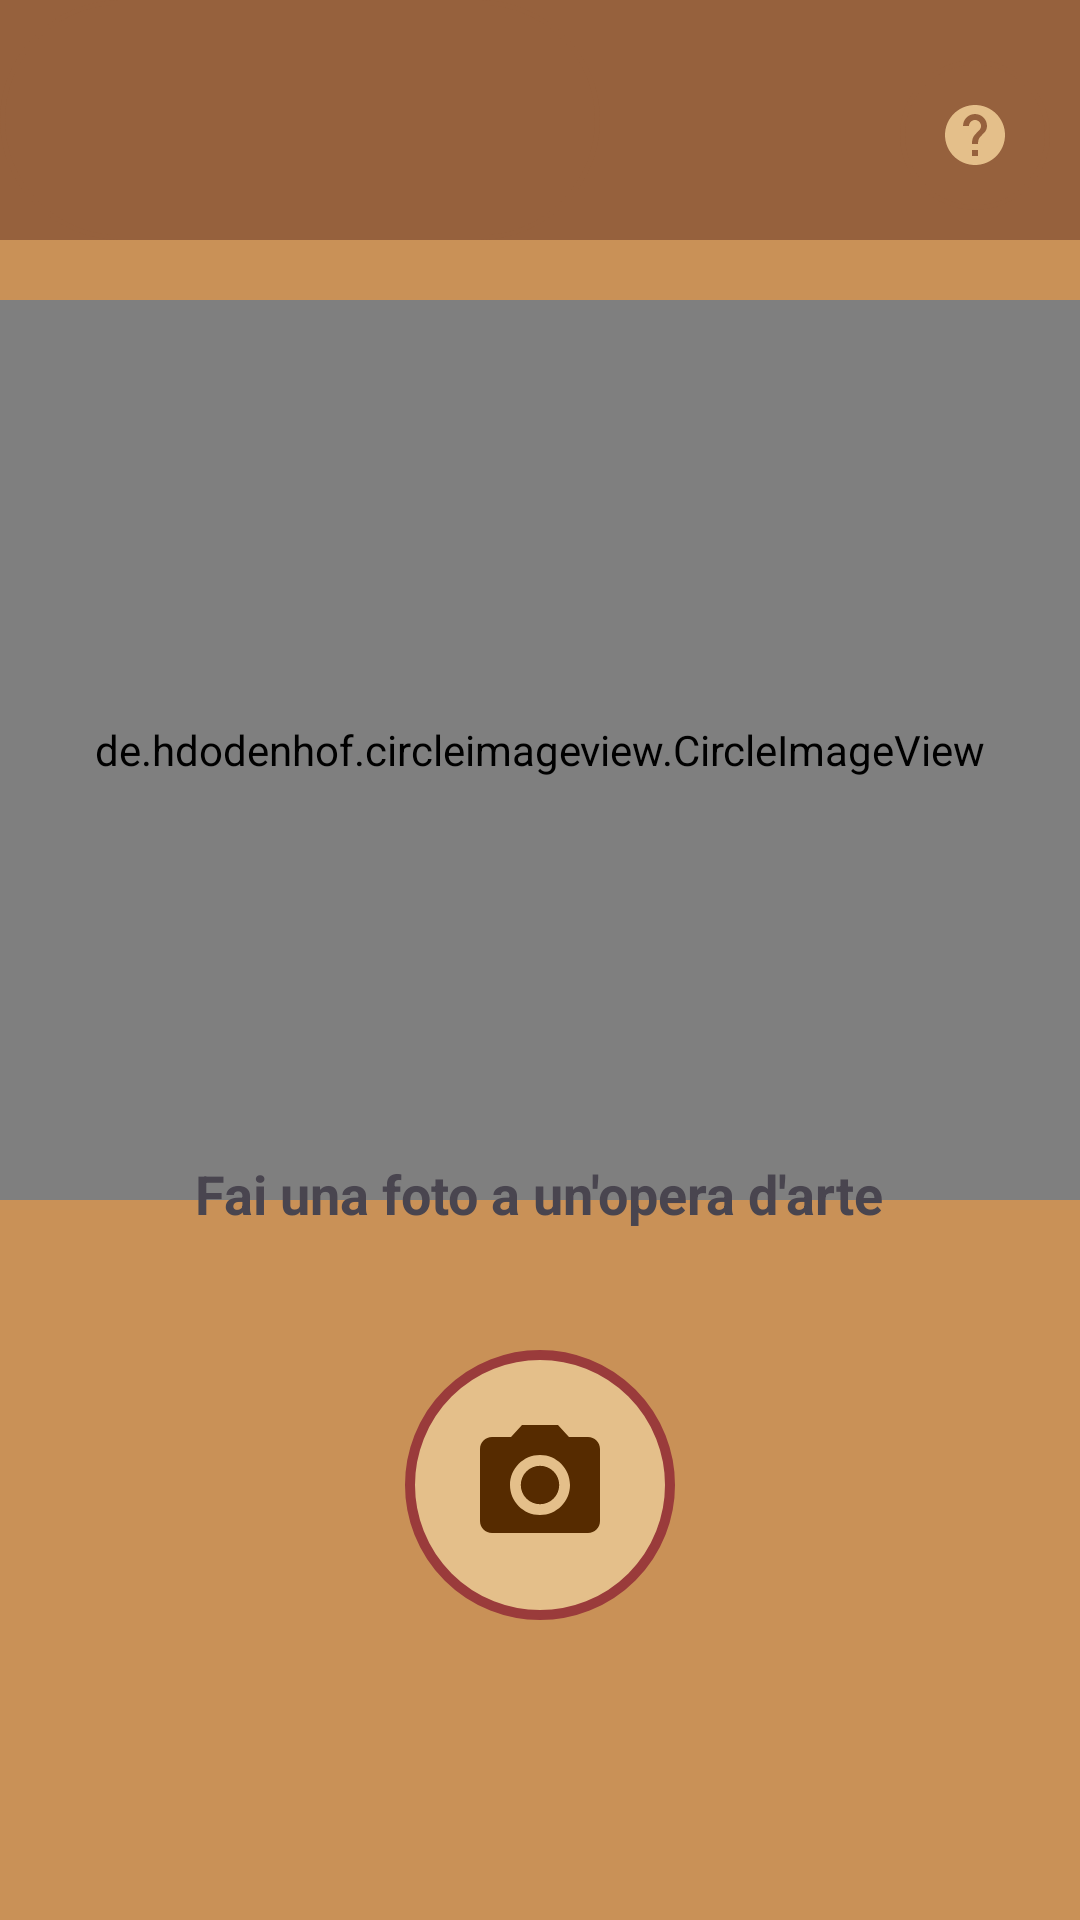

Point at icon controls on the screen. Image size 1080*1920, points as point (x, y).
photo camera: point (540, 1485)
